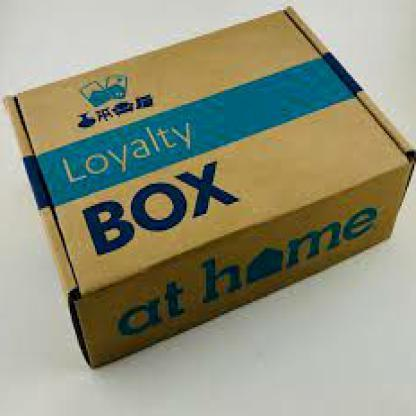box: (0, 8, 414, 378)
